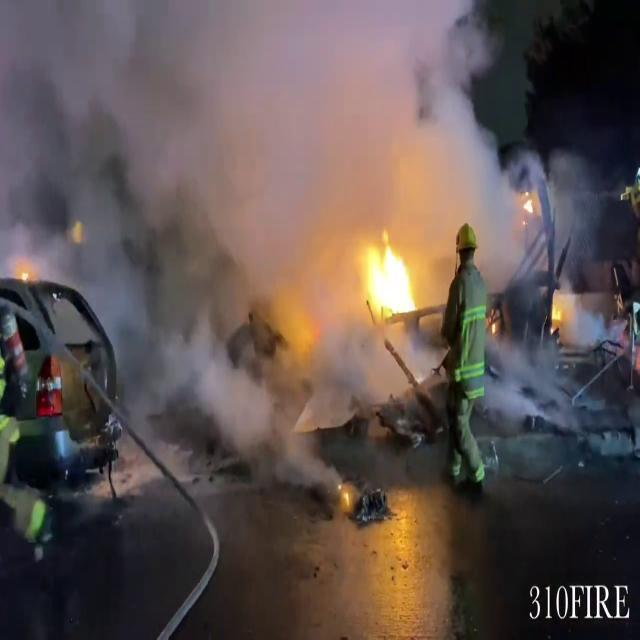Fire: (360, 232, 424, 323)
Smoke: (7, 1, 587, 443)
